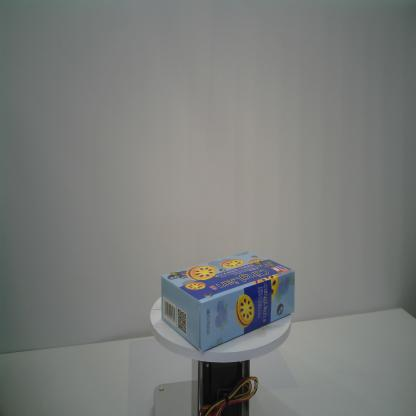Dessert: (160, 249, 296, 353)
